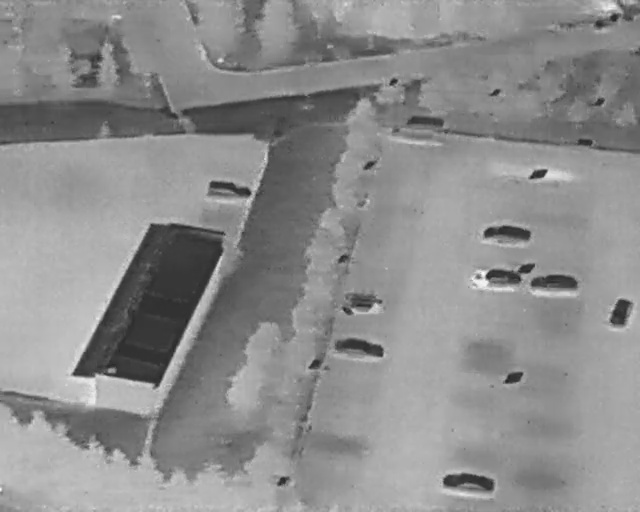Car: (439, 466, 497, 497), (331, 334, 386, 364), (391, 115, 447, 142), (480, 222, 532, 248), (471, 267, 521, 293), (205, 177, 254, 203), (530, 273, 579, 294), (341, 292, 382, 315), (608, 296, 634, 328)
